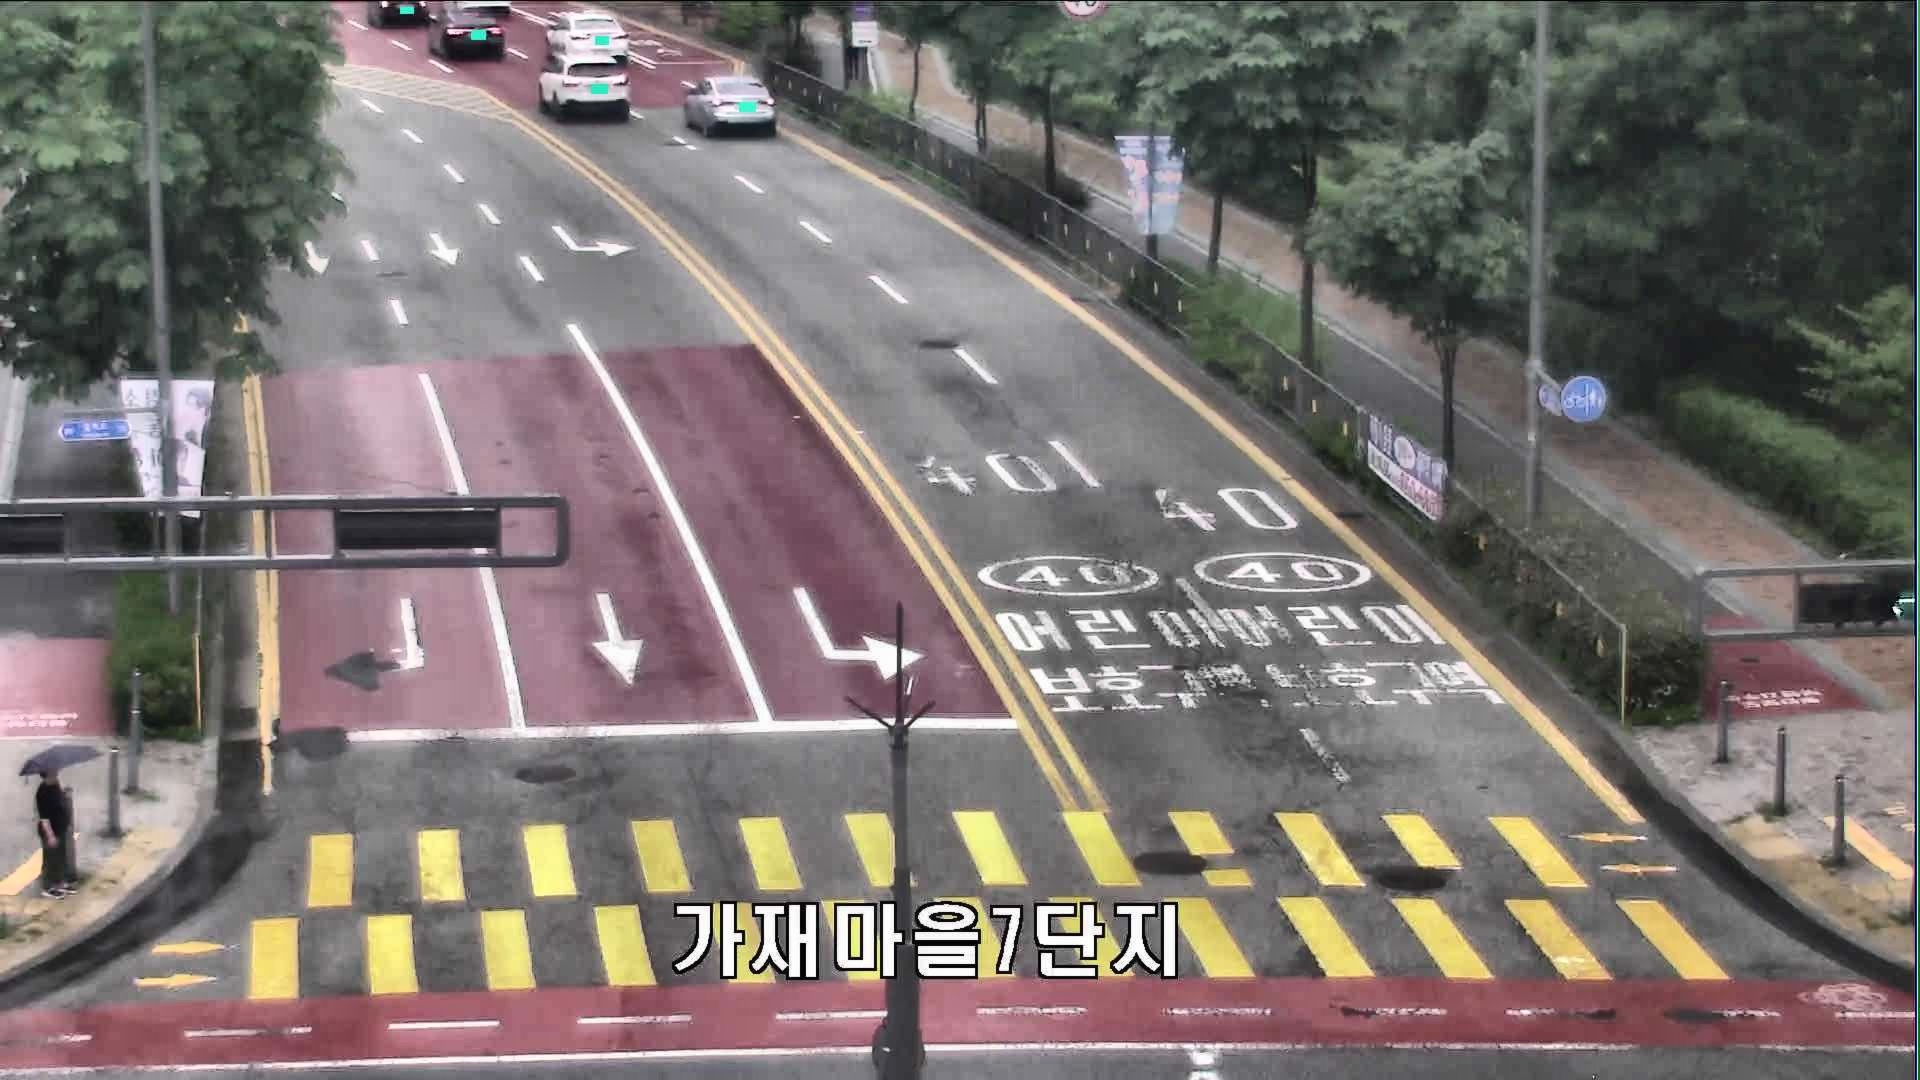um_sidewalk: (18, 745, 102, 895)
